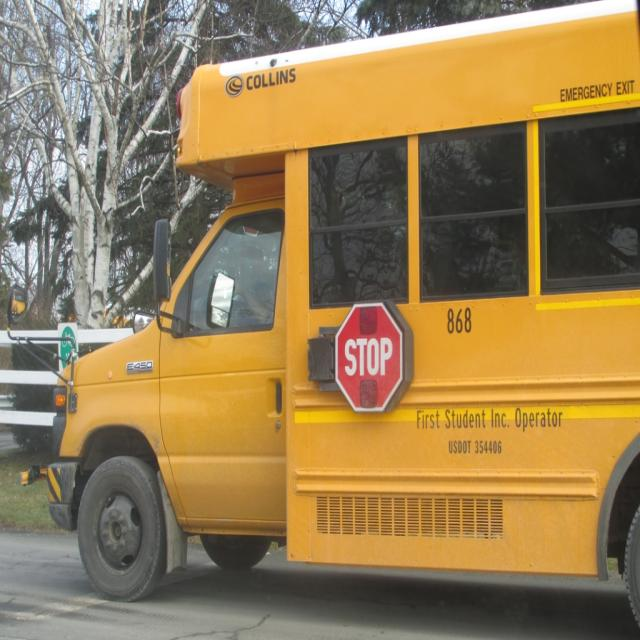Stop-sign: (334, 298, 402, 414)
